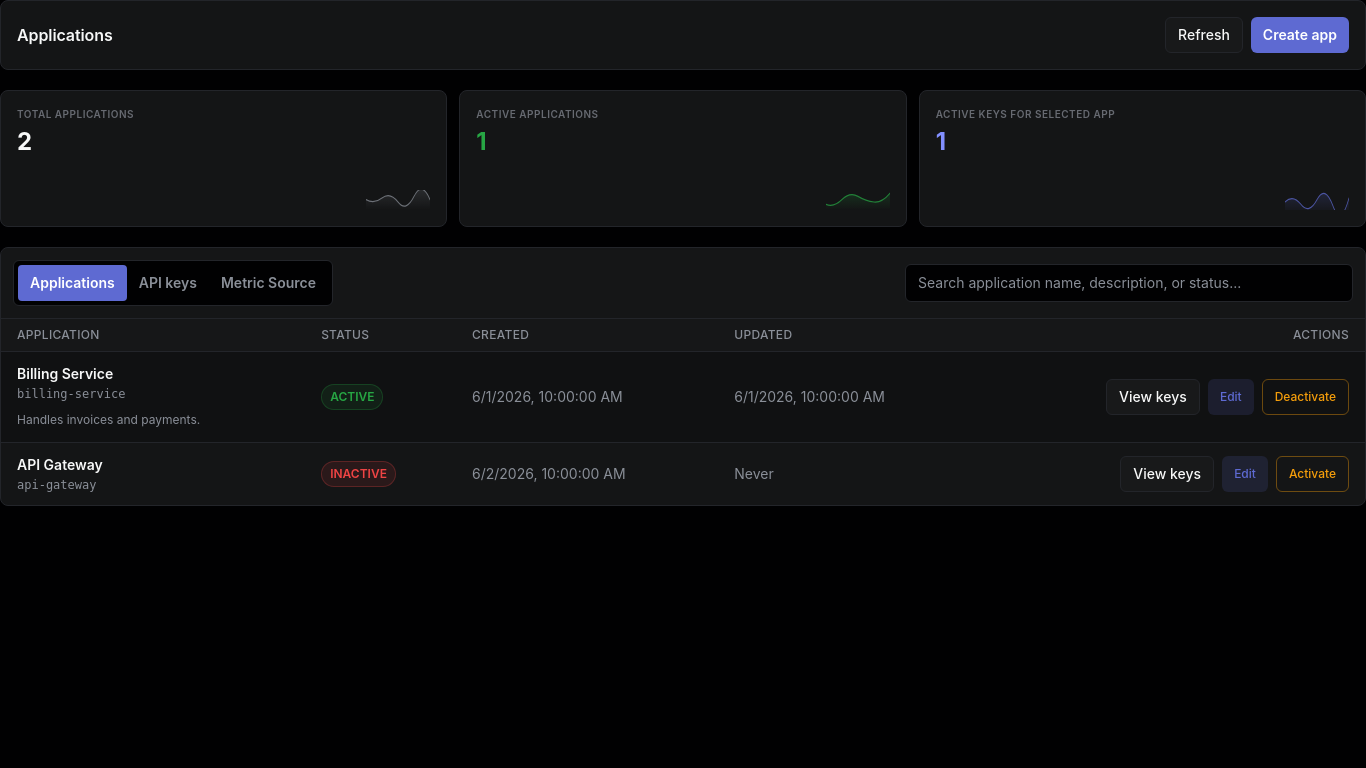
Test: ApplicationsPage › loads applications and selected app API keys
Expected: the text "Billing Service" is shown, [17, 365, 113, 382]
Expected: the text "API Gateway" is shown, [17, 456, 103, 473]
Click the button "API keys". click: (168, 283)
box: [127, 265, 209, 301]
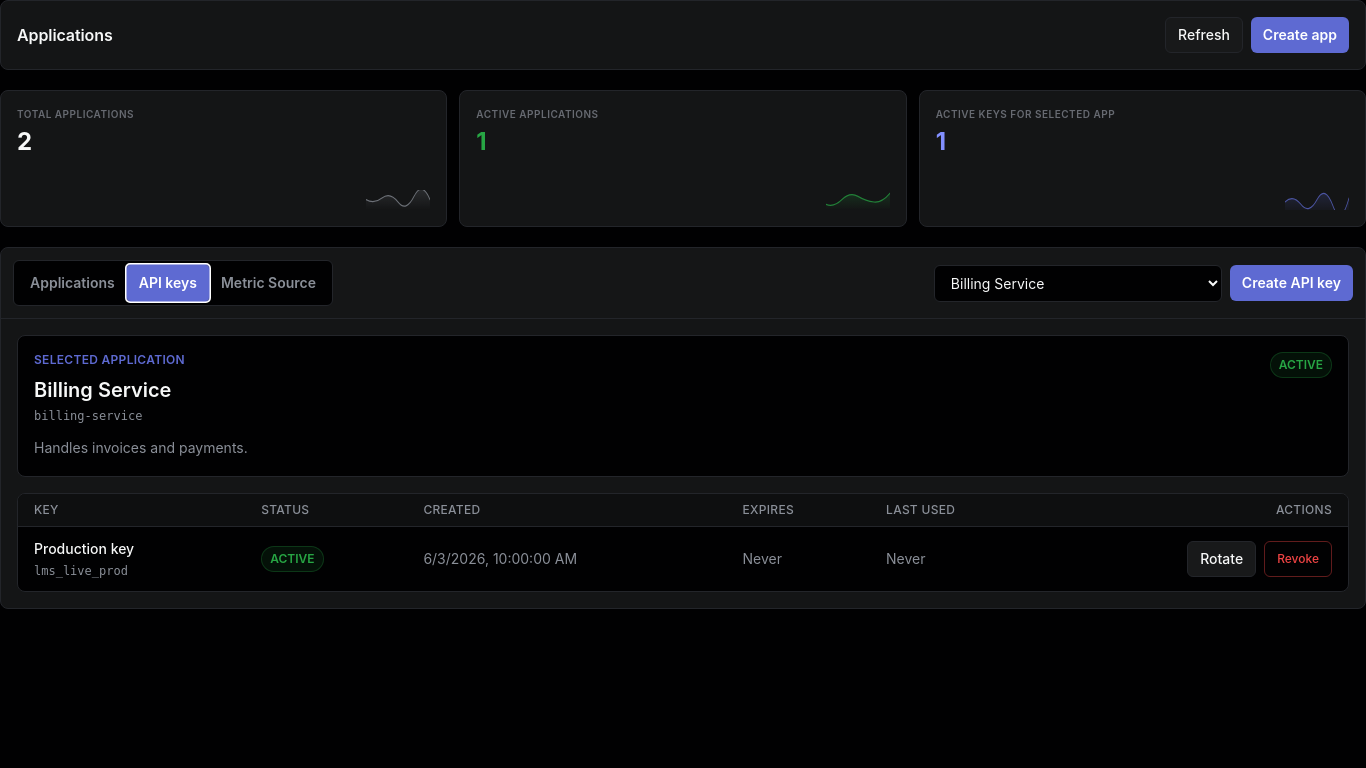
Expected: the text "Production key" is shown, [34, 540, 134, 557]
